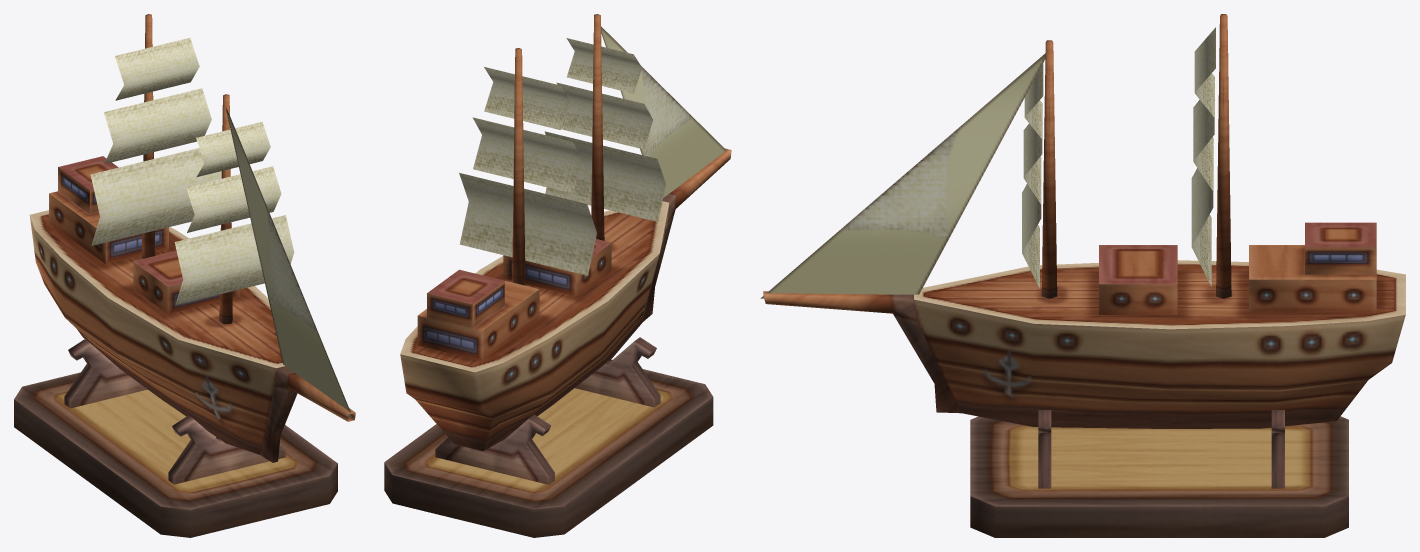
Rendered from a_SWImap04.glb.
The picture shows the model from 3 angles, left to right: view 1: azimuth 30°, elevation 25°; view 2: azimuth 150°, elevation 25°; view 3: azimuth 270°, elevation 25°; orthographic projection. The views are drawn at different scales.
Parts seen in each view (by area): view 1: a_SWImap04; view 2: a_SWImap04; view 3: a_SWImap04.
Boxes of the visible parts, x1,y1,x2,y2 form: a_SWImap04: (14,14,355,537); a_SWImap04: (384,14,731,537); a_SWImap04: (760,14,1405,537).
Bounding box in the file's own units: 0.7345 × 1.67 × 2.06.
Materials: 2 (2 with a texture image).
